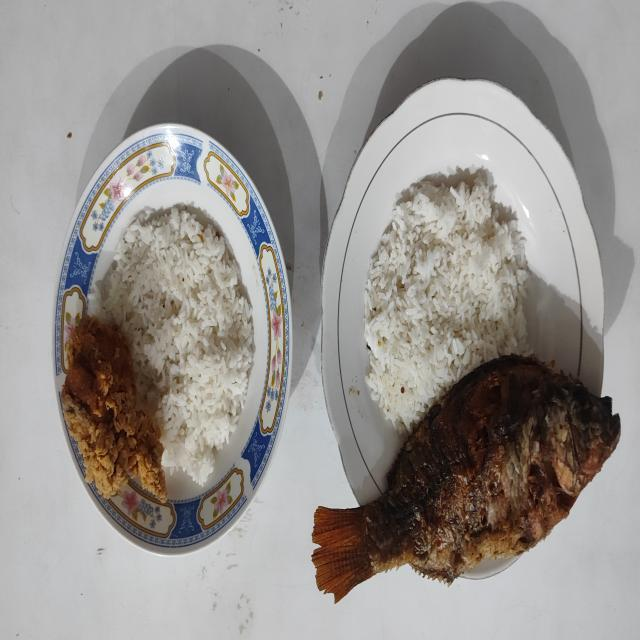ikan_mujair: (312, 354, 620, 602)
nasi_putih: (96, 204, 255, 484), (364, 166, 529, 435)
